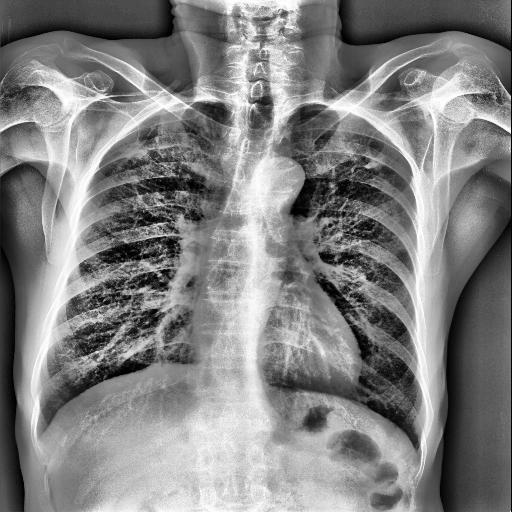0- Aortic enlargement: (256, 154, 305, 204)
10- Pleural effusion: (29, 426, 44, 446)
11- Pleural thickening: (148, 98, 192, 112), (29, 426, 44, 446)
13- Pulmonary fibrosis: (117, 135, 159, 164), (192, 109, 218, 140), (119, 140, 158, 160), (364, 150, 386, 168), (362, 158, 384, 170)
9- Other lesion: (362, 158, 384, 170)
